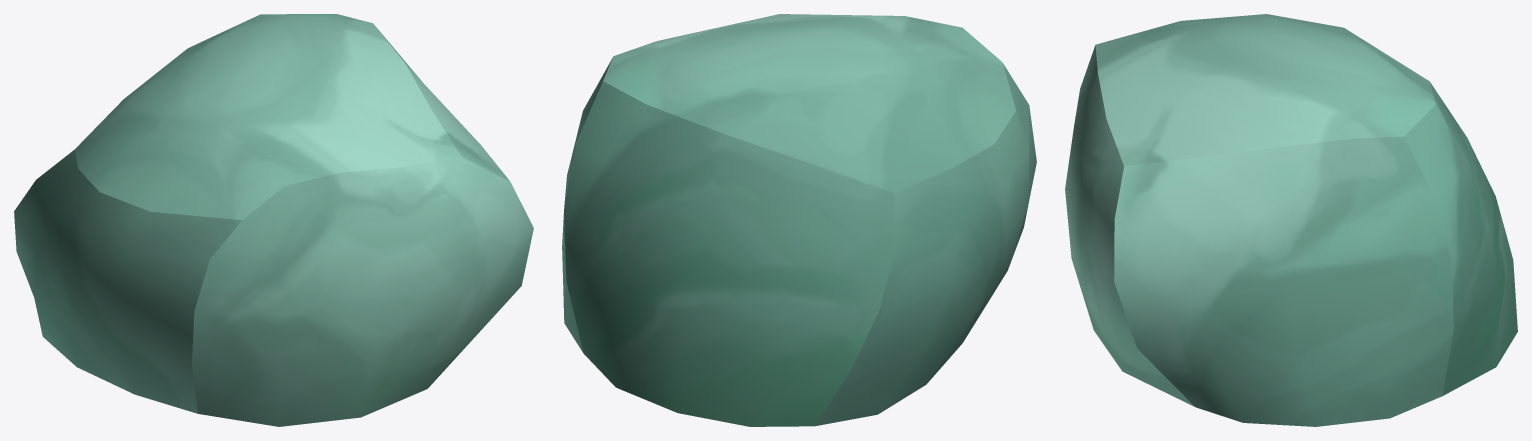
Rendered from Stone_2.FBX.
The picture shows the model from 3 angles, left to right: view 1: azimuth 30°, elevation 25°; view 2: azimuth 150°, elevation 25°; view 3: azimuth 270°, elevation 25°; orthographic projection.
Visible parts, largest first — view 1: Box024; view 2: Box024; view 3: Box024.
Boxes of the visible parts, x1,y1,x2,y2 form: Box024: [14, 14, 533, 426]; Box024: [562, 14, 1036, 426]; Box024: [1065, 14, 1517, 426].
Size of the model in its own units: 4.03 by 2.82 by 3.98.
